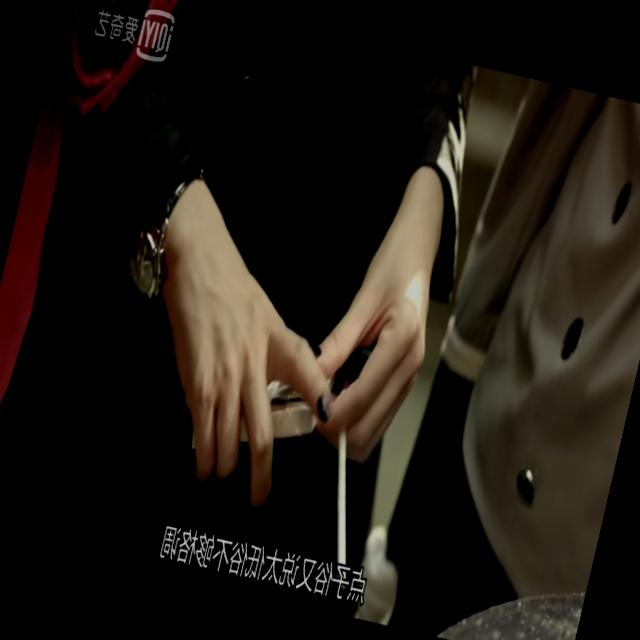cigarette: (307, 426, 373, 571)
